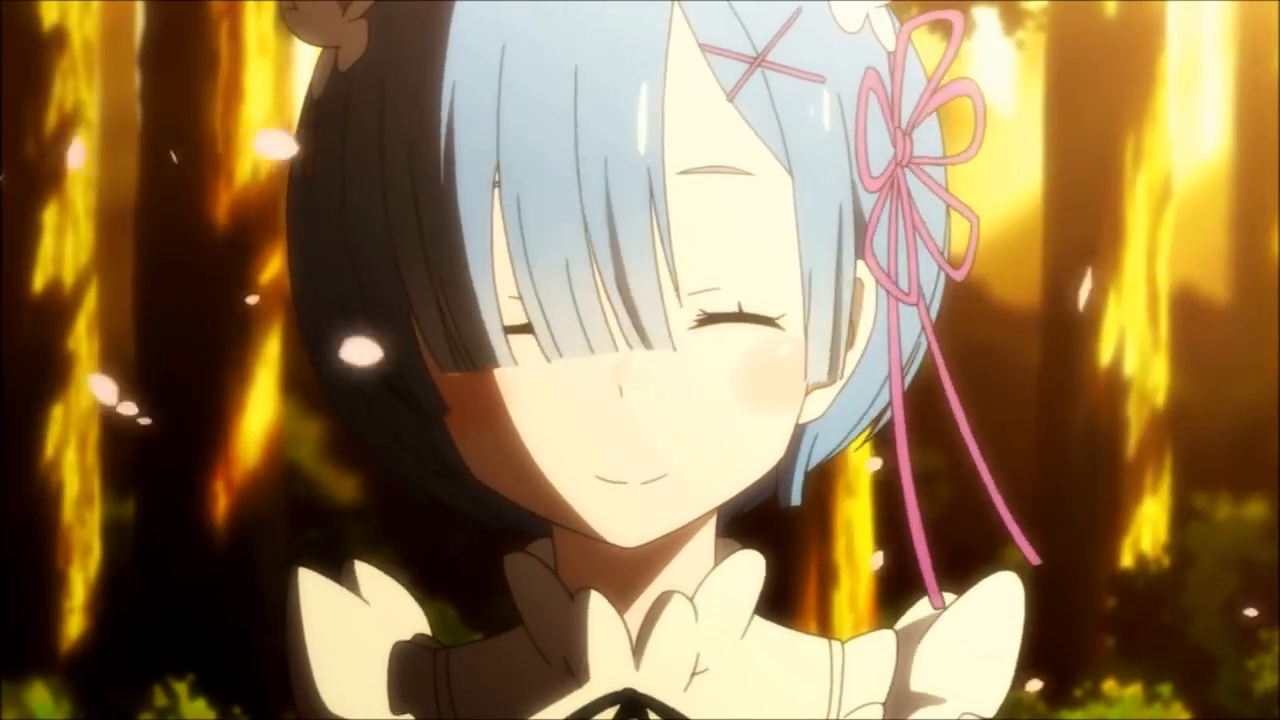REM: (283, 1, 987, 543)
